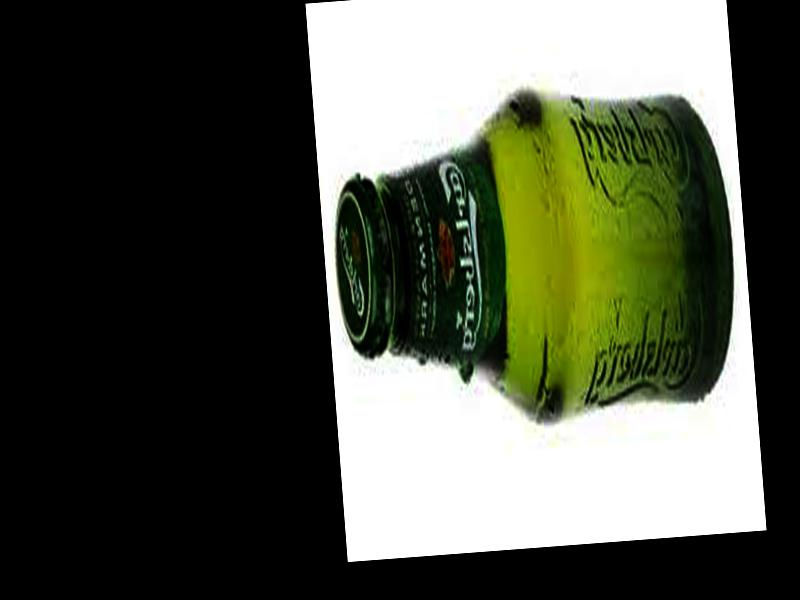Beer: (325, 84, 745, 435)
